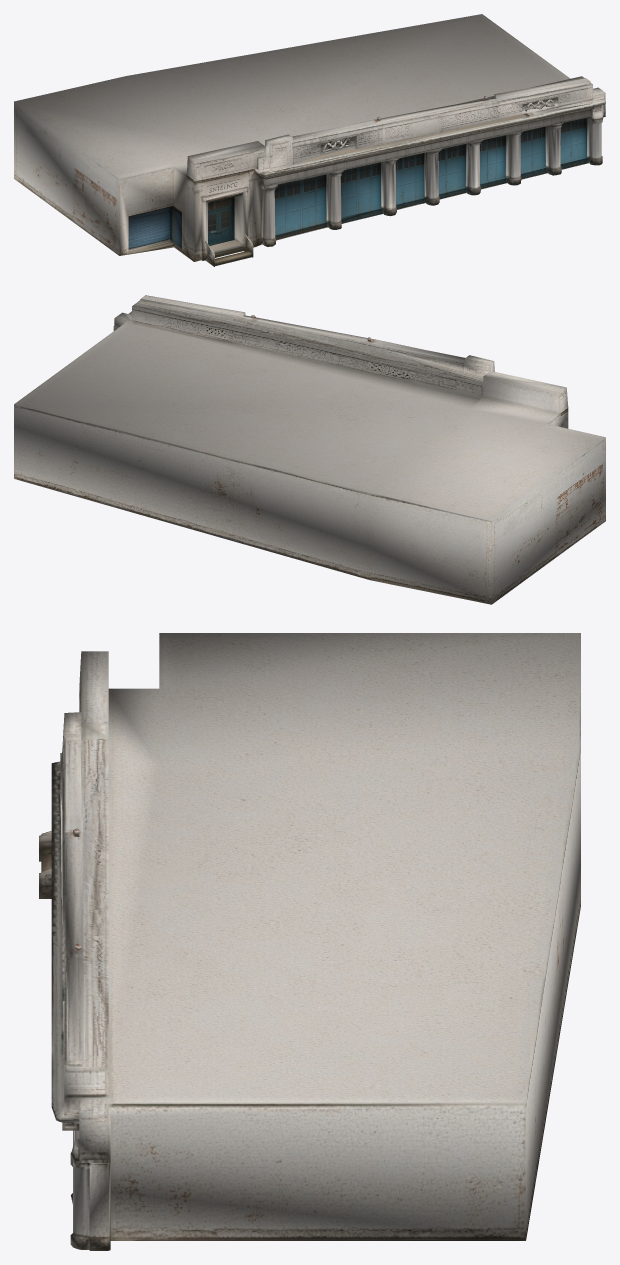
The model's file is bus+station+3d+model.glb.
The picture shows the model from 3 angles, top to bottom: view 1: azimuth 30°, elevation 25°; view 2: azimuth 150°, elevation 25°; view 3: azimuth 270°, elevation 25°; orthographic projection. The views are drawn at different scales.
Parts seen in each view (by area): view 1: tripo_node_92511c14-7f64-49de-a563-e08da27bcbfe; view 2: tripo_node_92511c14-7f64-49de-a563-e08da27bcbfe; view 3: tripo_node_92511c14-7f64-49de-a563-e08da27bcbfe.
Boxes of the visible parts, x1=… form: tripo_node_92511c14-7f64-49de-a563-e08da27bcbfe: x1=14, y1=14, x2=605, y2=266; tripo_node_92511c14-7f64-49de-a563-e08da27bcbfe: x1=14, y1=295, x2=605, y2=604; tripo_node_92511c14-7f64-49de-a563-e08da27bcbfe: x1=39, y1=633, x2=580, y2=1250.
Size of the model in its own units: 0.998 by 0.2129 by 0.502.
Materials: 1 (1 with a texture image).
